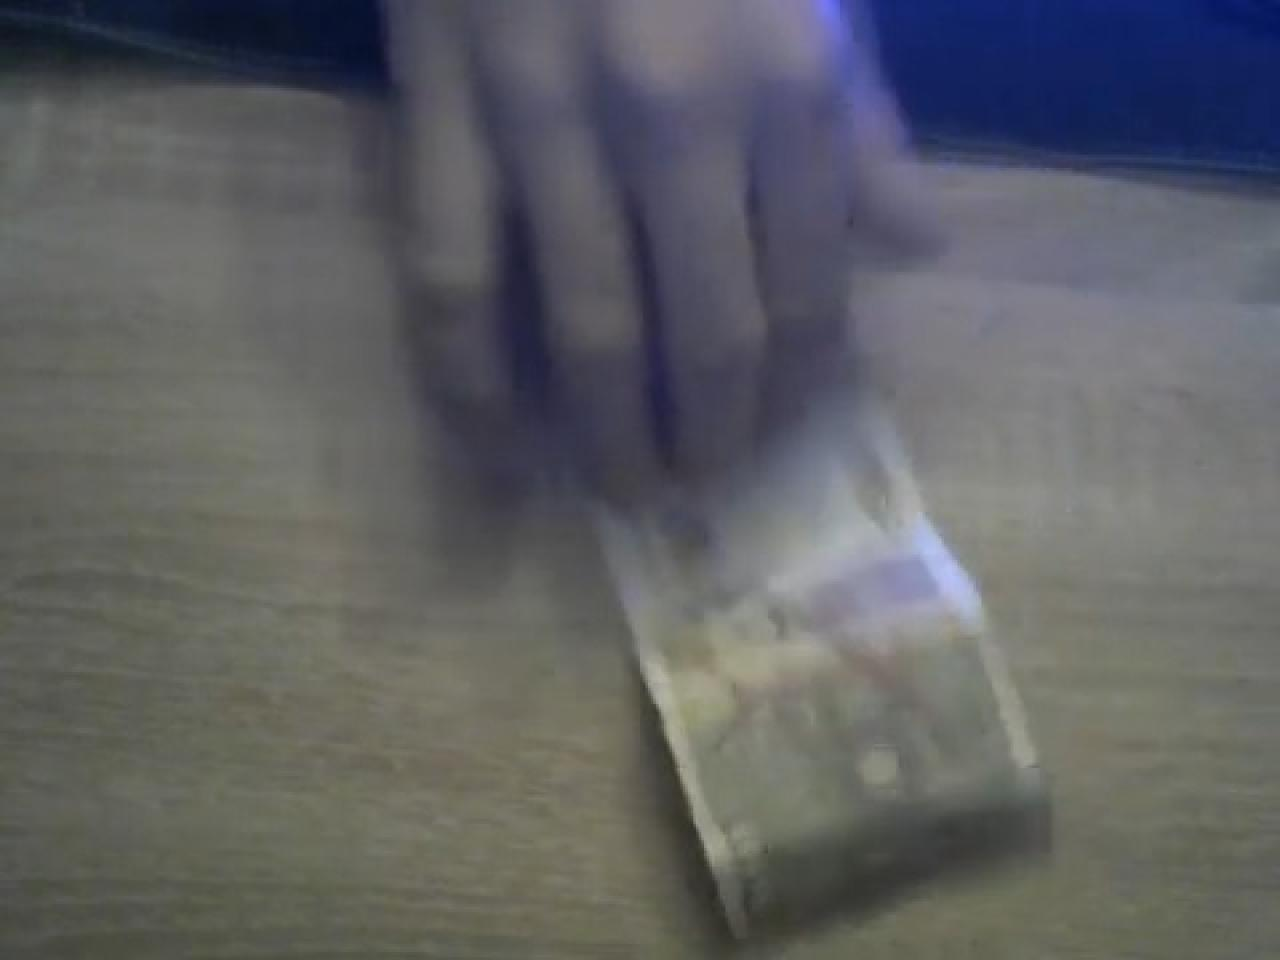10leva: (384, 0, 1053, 952)
